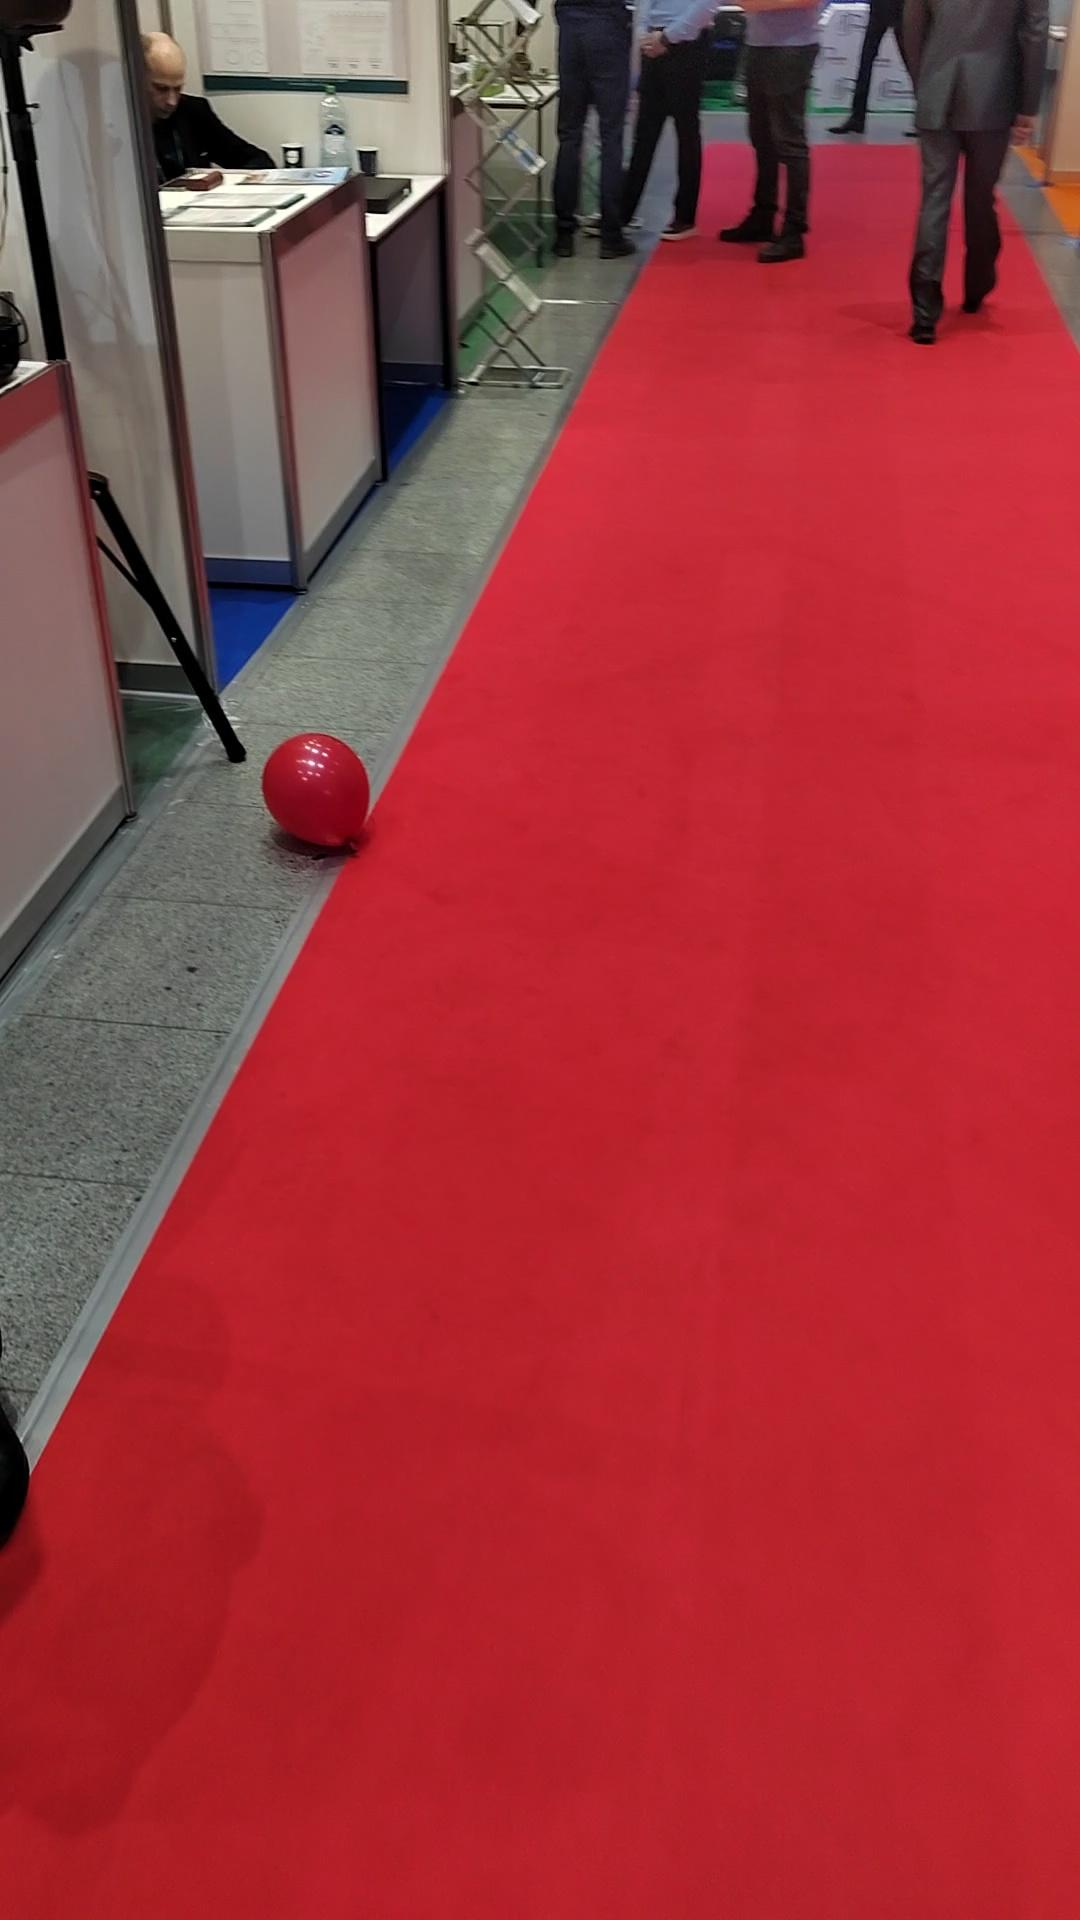red: (257, 724, 377, 862)
